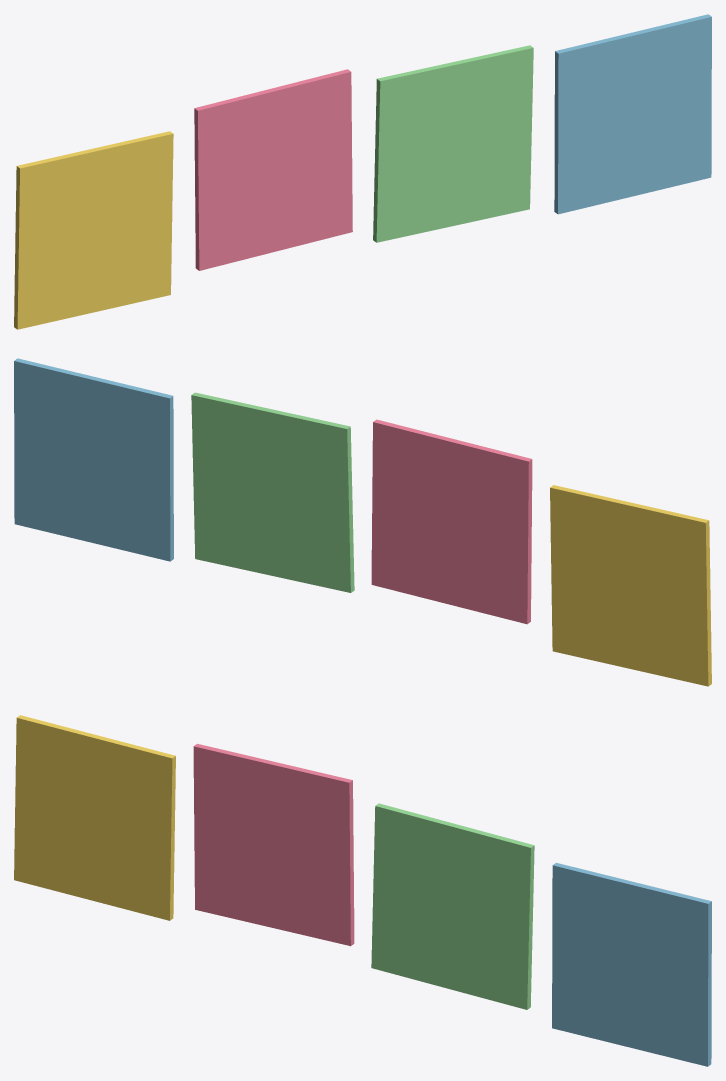
The model's file is sticky_notes.fbx.
3 renders of one model, top to bottom at view 1: azimuth 30°, elevation 25°; view 2: azimuth 150°, elevation 25°; view 3: azimuth 330°, elevation 25°, orthographic.
Visible parts, largest first — view 1: Note1, Note3, Note2, Note0; view 2: Note1, Note2, Note0, Note3; view 3: Note1, Note2, Note0, Note3.
Boxes of the visible parts, <box> form: Note1: <box>194,69,352,270</box>; Note3: <box>554,14,711,214</box>; Note2: <box>373,45,533,242</box>; Note0: <box>14,131,173,329</box>; Note1: <box>371,419,532,624</box>; Note2: <box>191,392,354,592</box>; Note0: <box>550,485,711,686</box>; Note3: <box>14,358,173,561</box>; Note1: <box>193,743,354,946</box>; Note2: <box>371,803,534,1009</box>; Note0: <box>14,715,175,920</box>; Note3: <box>552,862,711,1066</box>.
Size of the model in its own units: 0.2245 by 0.0592 by 0.005.
